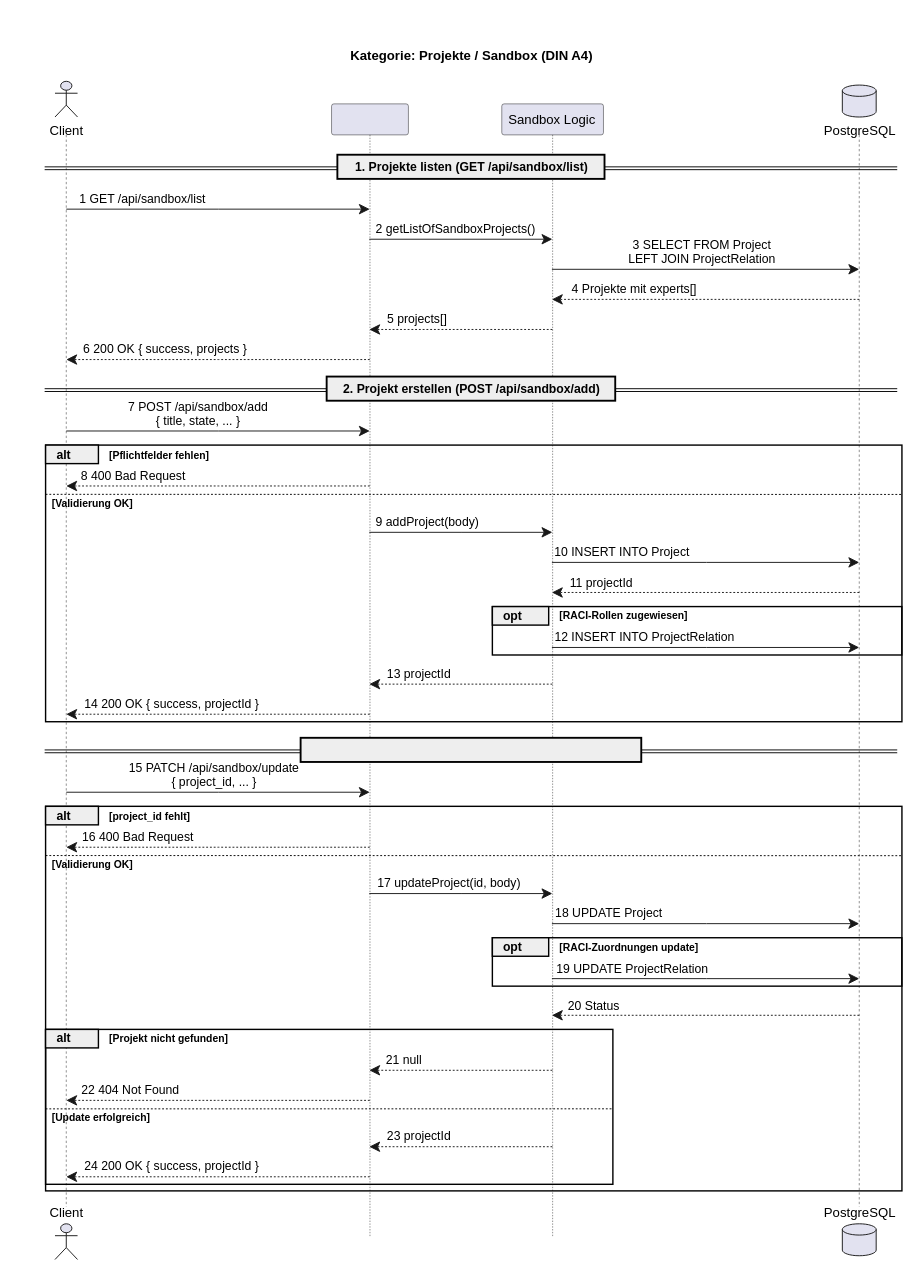
This 919x1276 diagram has some shape labels left out. Each missing label, with the box of its shape:
3. Projekt aktualisieren (PATCH /api/sandbox/update): (299, 736, 642, 762)
Next.js API: (331, 103, 408, 1237)
